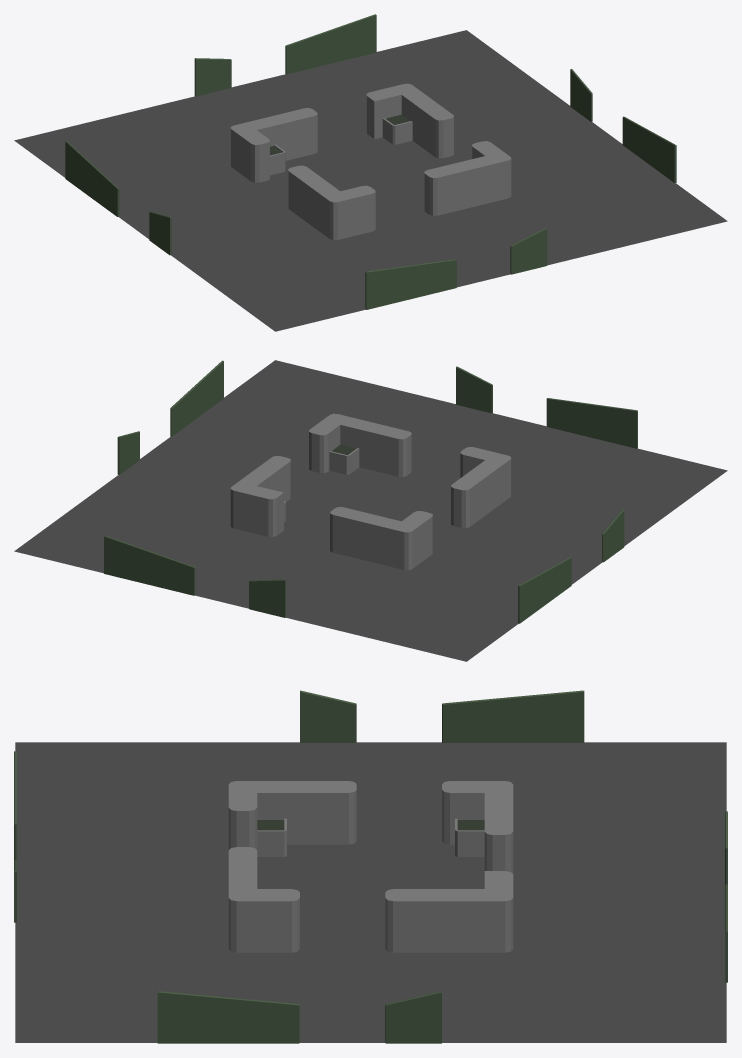
File: apartmentGarden1.fbx
The picture shows the model from 3 angles, top to bottom: view 1: azimuth 30°, elevation 25°; view 2: azimuth 150°, elevation 25°; view 3: azimuth 270°, elevation 25°; orthographic projection. The views are drawn at different scales.
Visible parts, largest first — view 1: Floor, Detail; view 2: Floor, Detail; view 3: Floor, Detail.
Boxes of the visible parts, x1,y1,x2,y2 form: Floor: [14, 30, 727, 331]; Detail: [65, 14, 676, 309]; Floor: [14, 360, 727, 661]; Detail: [104, 360, 637, 623]; Floor: [15, 742, 726, 1042]; Detail: [14, 690, 727, 1043].
Bounding box in the file's own units: 5020 × 400 × 5020.
